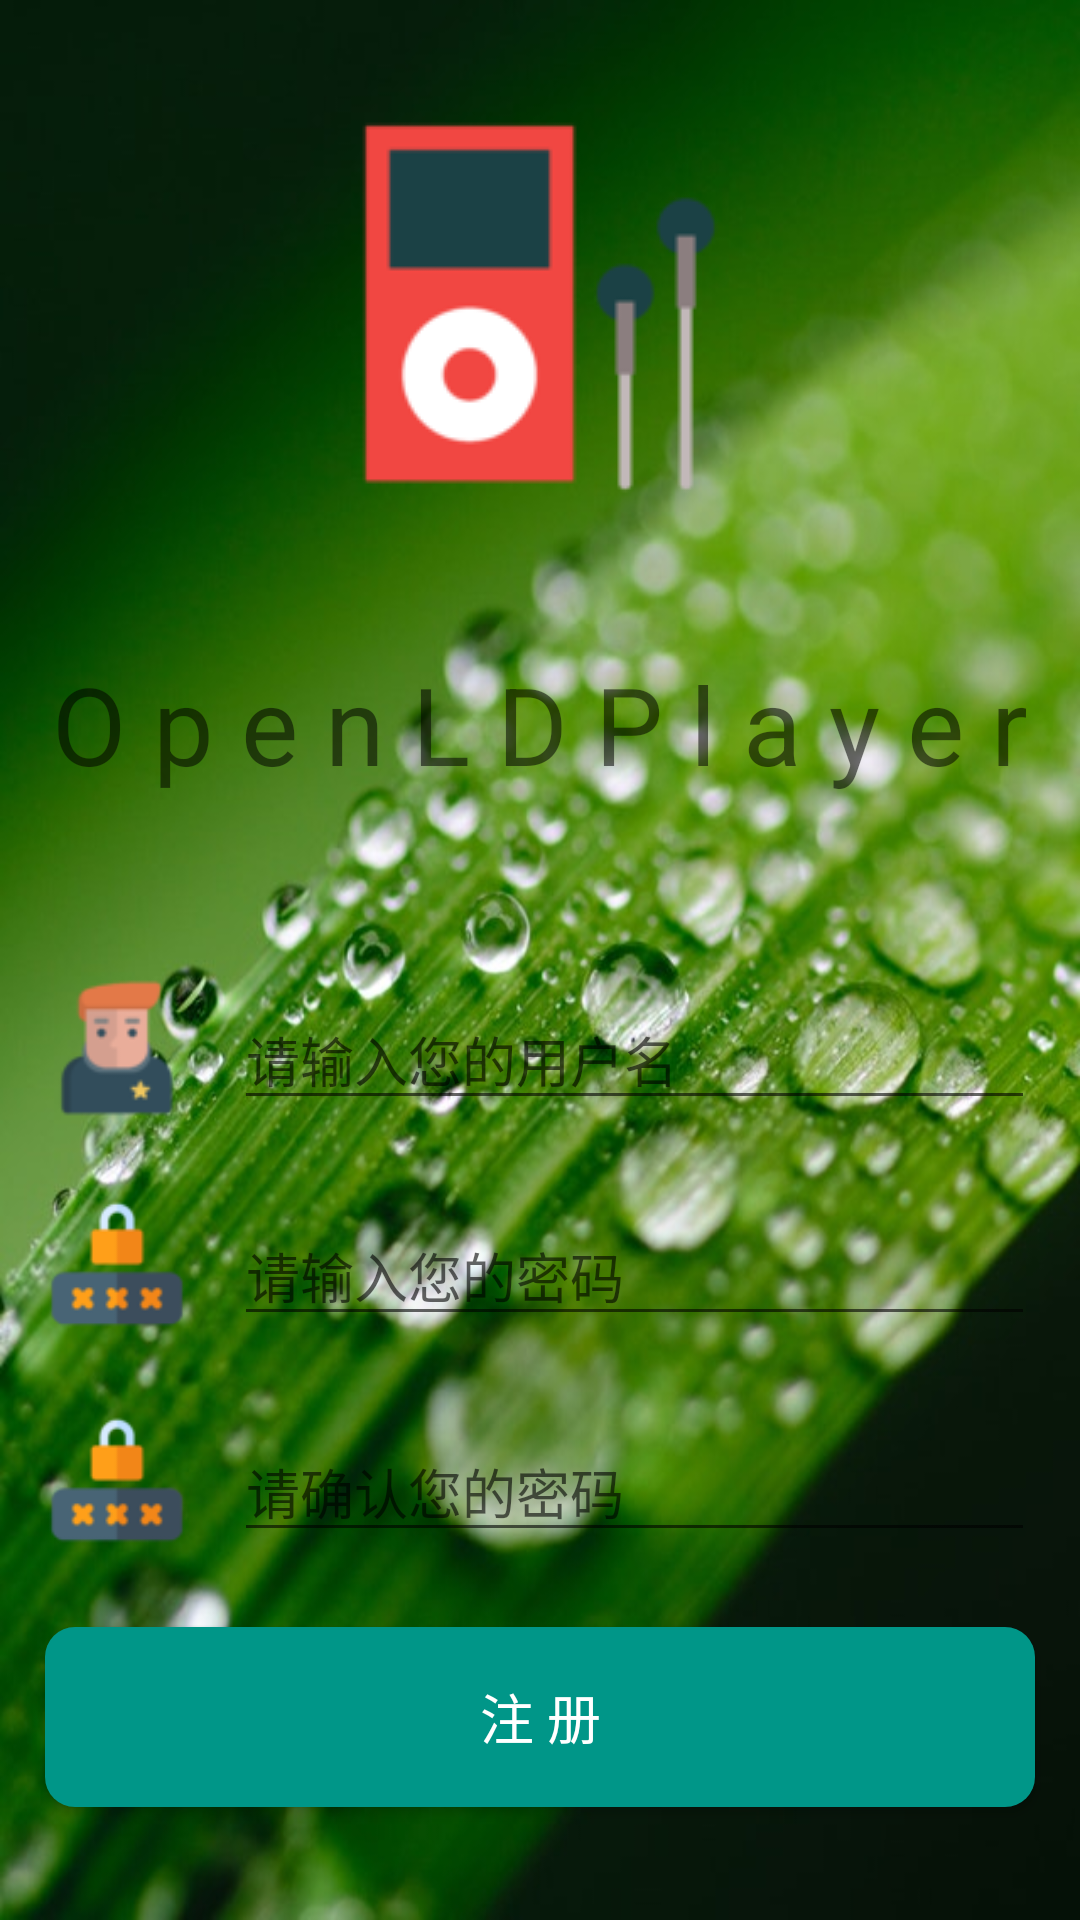

Icon click points for this 1080w x 1920h phone screenshot, format point (x, y):
passwd: point (117, 1264), point (117, 1480)
user: point (125, 1048)
